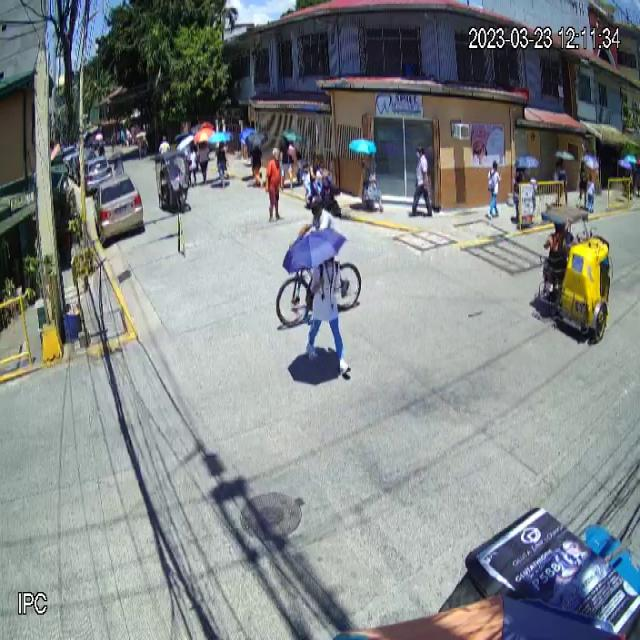Car: (94, 175, 144, 246)
Tricycle: (534, 206, 614, 342)
